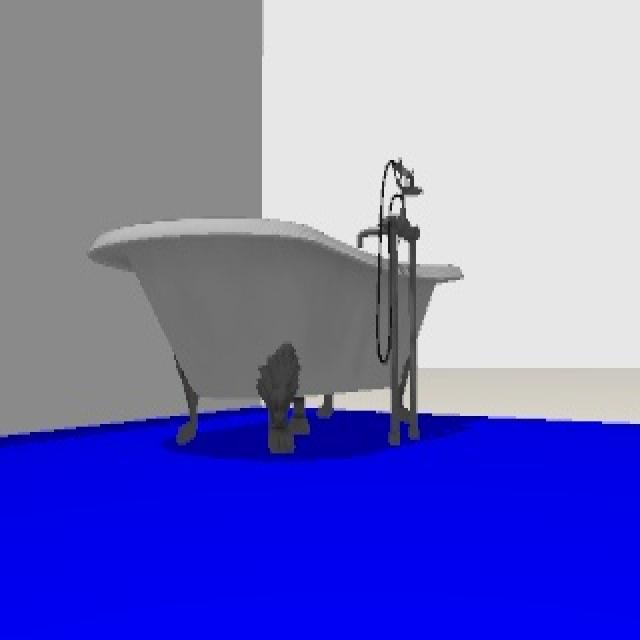bathtub: (91, 163, 460, 454)
